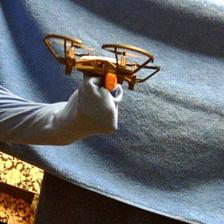drone: (42, 31, 162, 93)
